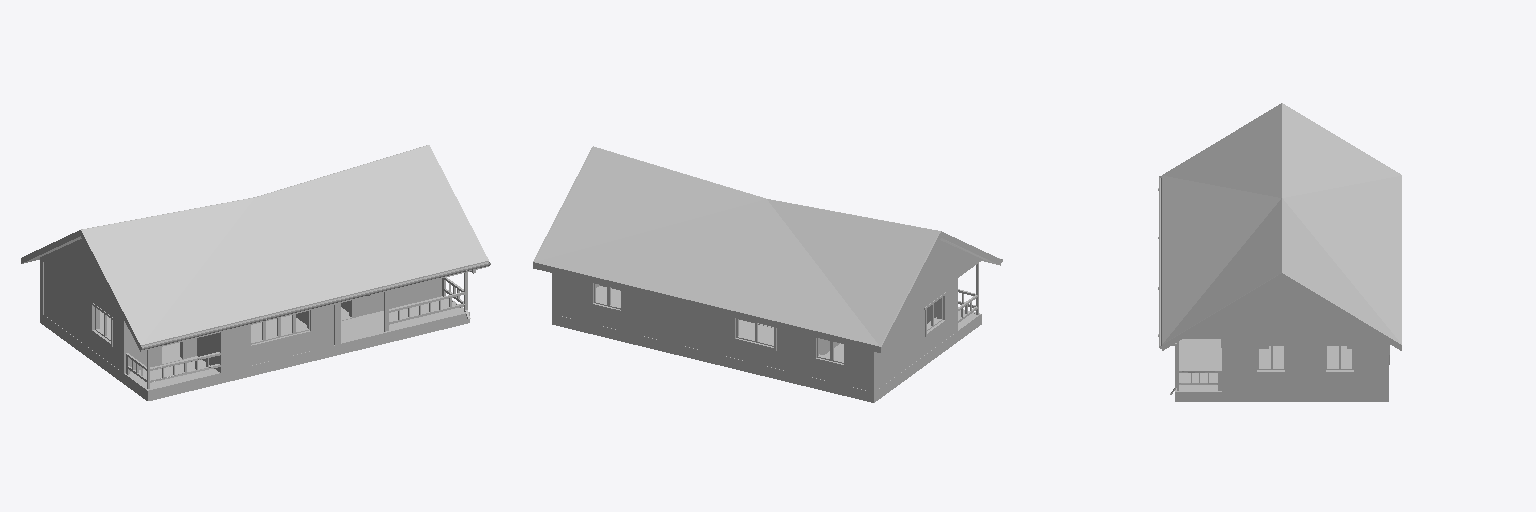
The model's file is old_house.obj.
3 renders of one model, left to right at view 1: azimuth 30°, elevation 25°; view 2: azimuth 150°, elevation 25°; view 3: azimuth 270°, elevation 25°, orthographic.
Visible parts, largest first — view 1: House_Плоскость; view 2: House_Плоскость; view 3: House_Плоскость.
Boxes of the visible parts, x1,y1,x2,y2 form: House_Плоскость: [21, 145, 490, 400]; House_Плоскость: [533, 146, 1002, 402]; House_Плоскость: [1158, 103, 1401, 401].
Bounding box in the file's own units: 20.63 × 7.68 × 12.5.